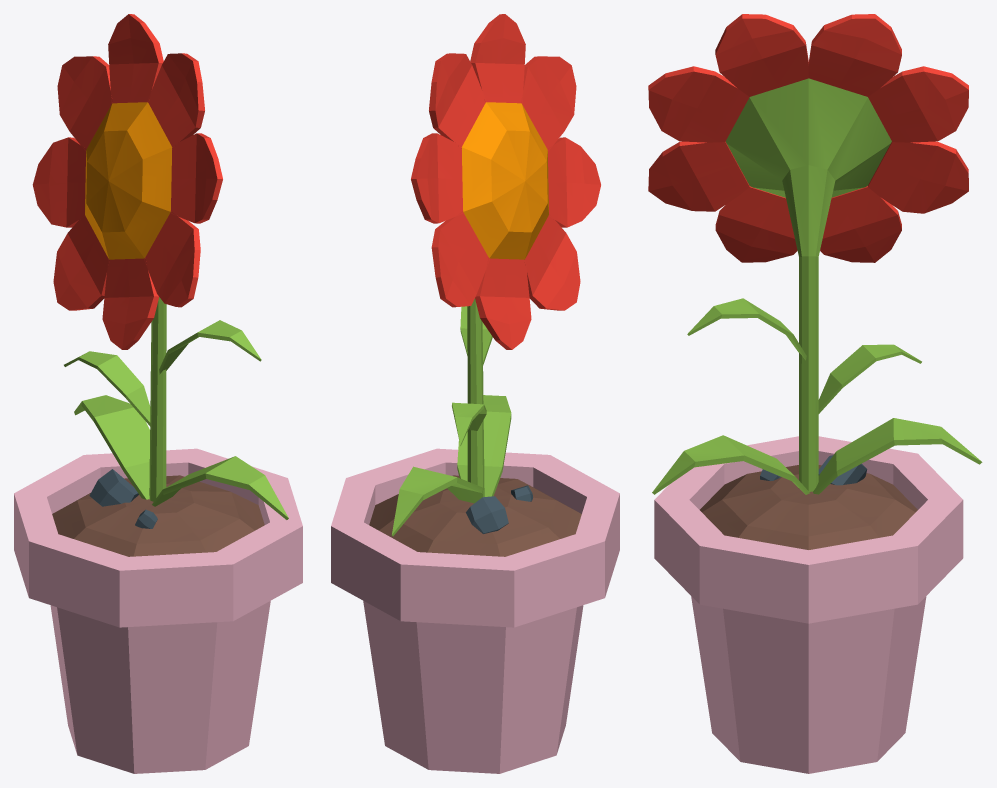
Rendered from Flower.glb.
The picture shows the model from 3 angles, left to right: view 1: azimuth 30°, elevation 25°; view 2: azimuth 150°, elevation 25°; view 3: azimuth 270°, elevation 25°; orthographic projection. The views are drawn at different scales.
Parts seen in each view (by area): view 1: flower_01_Cube.007; view 2: flower_01_Cube.007; view 3: flower_01_Cube.007.
Boxes of the visible parts, x1,y1,x2,y2 form: flower_01_Cube.007: [14, 14, 302, 773]; flower_01_Cube.007: [331, 14, 619, 773]; flower_01_Cube.007: [648, 14, 982, 773].
Bounding box in the file's own units: 76.61 × 197 × 82.86.
